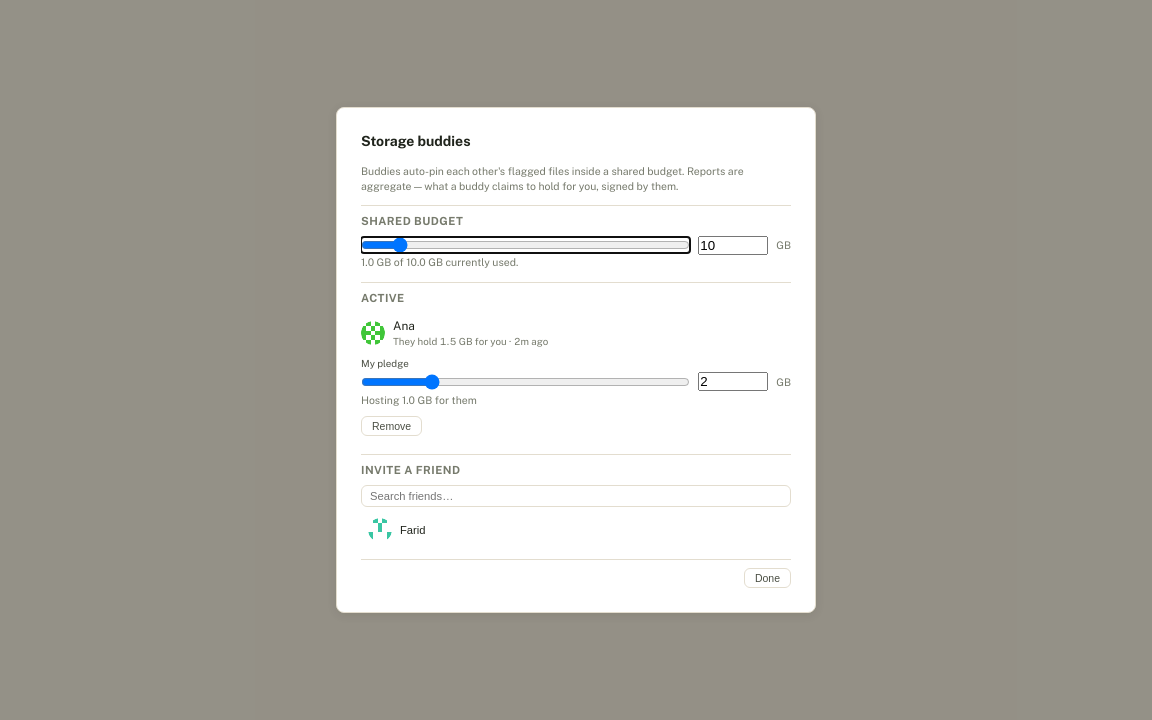
Test: StorageBuddySheet › surfaces action rejections inline via role=alert
This screenshot has width=1152, height=720.
What coordinates should you click on to do the following:
click the button with test id "buddy-remove"
I would click on:
 (392, 426)
Its box is x1=361 y1=416 x2=422 y2=436.
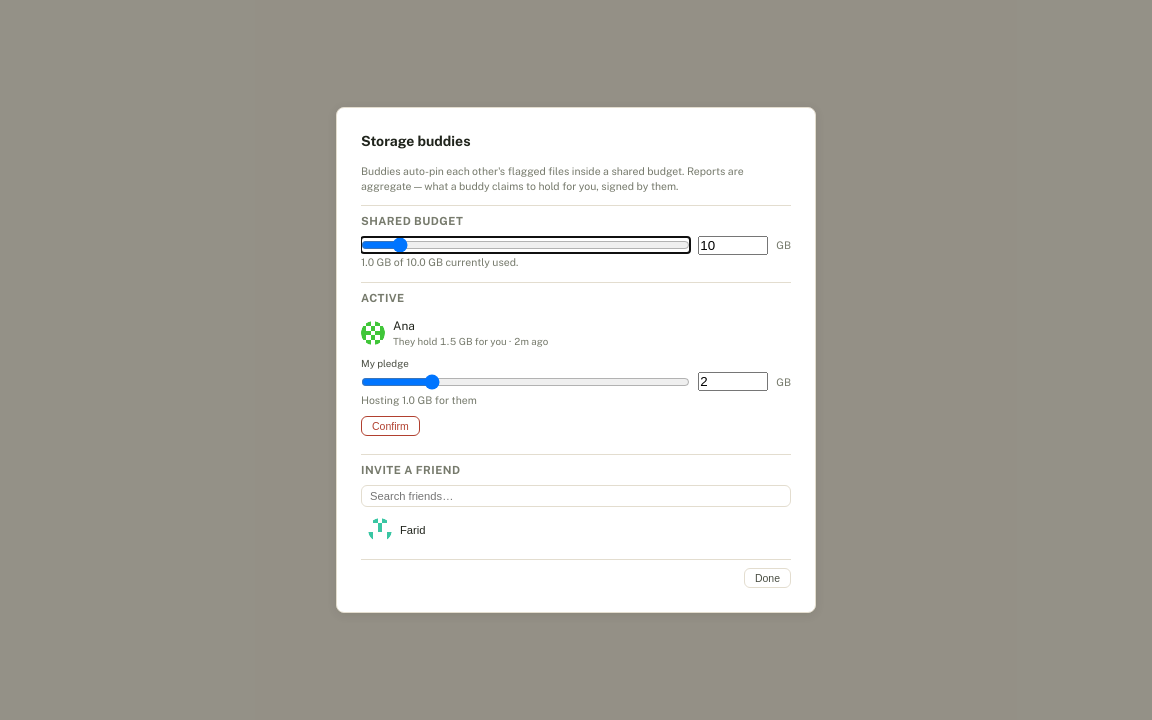
What coordinates should you click on to do the following:
click the button with test id "buddy-remove-confirm"
I would click on:
 (390, 426)
Its box is x1=361 y1=416 x2=420 y2=436.
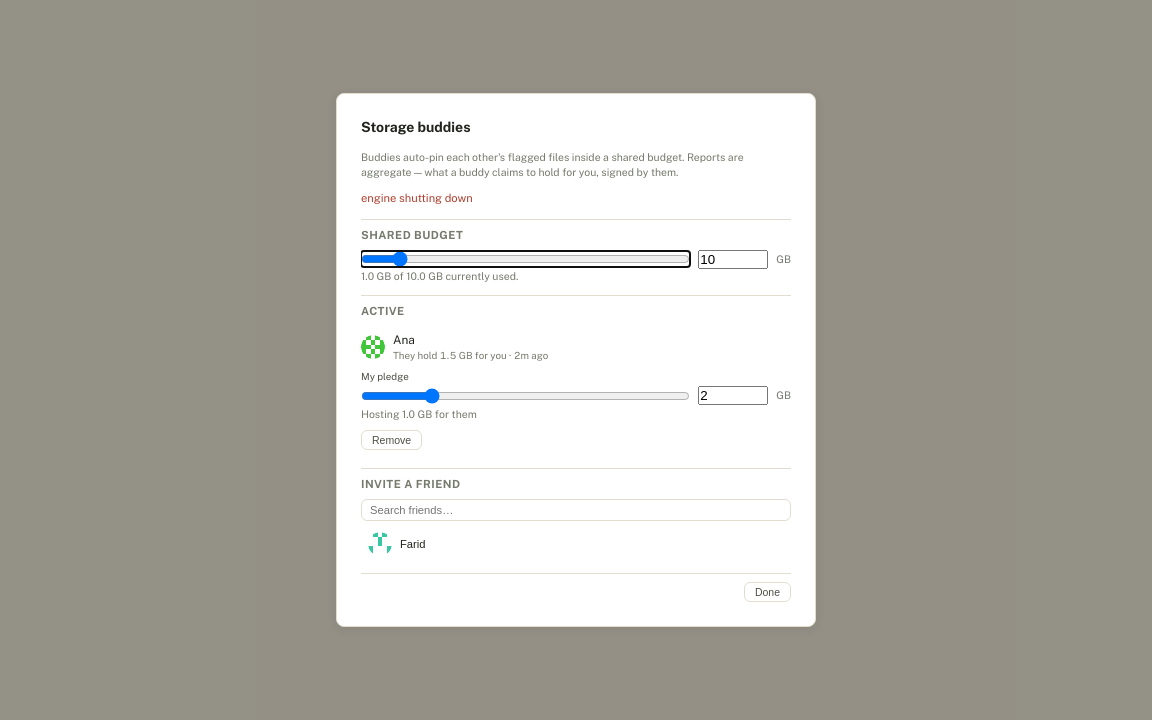
Expected: the message reads "engine shutting down", x1=361 y1=191 x2=473 y2=205
